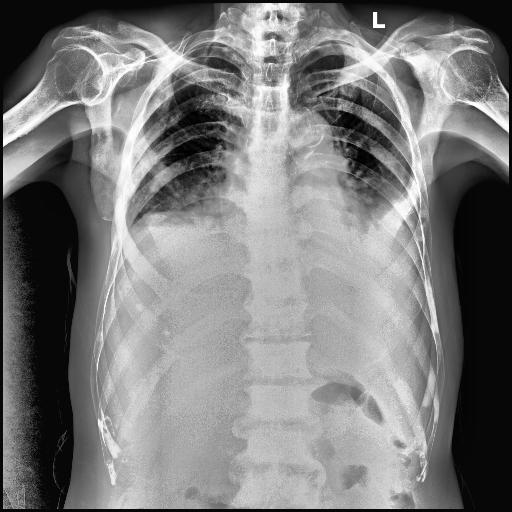0- Aortic enlargement: (278, 104, 334, 156), (276, 106, 332, 156), (280, 110, 330, 166)
10- Pleural effusion: (116, 210, 248, 288), (330, 177, 424, 280), (348, 175, 424, 243), (400, 212, 434, 260)
11- Pleural thickening: (400, 212, 434, 260)
13- Pulmonary fibrosis: (158, 110, 192, 140)
3- Cardiomegaly: (210, 185, 368, 225), (204, 184, 362, 220)
4- Consolidation: (372, 182, 418, 228)
7- Lung Opacity: (134, 144, 227, 220), (334, 130, 408, 206), (348, 175, 424, 243), (372, 182, 418, 228)
9- Other lesion: (123, 128, 172, 192), (124, 138, 169, 192)
